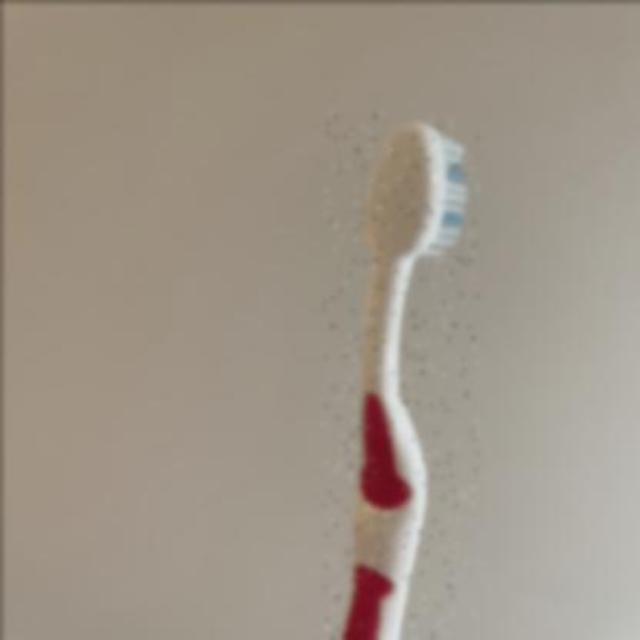toothbrush: (322, 108, 476, 640)
